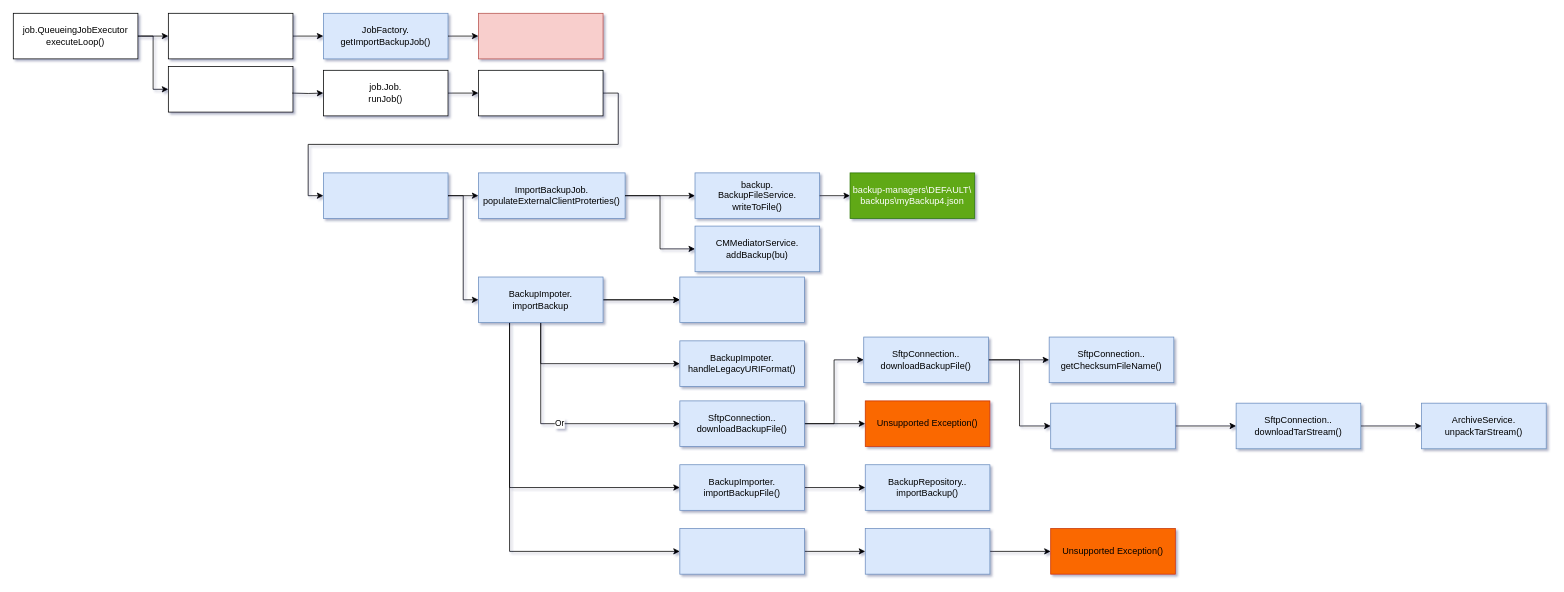
Some shapes in this 1564 by 592 pixel diagram are drawn without their labels. The box of each missing label's shape, as (x1, y1, x2, y2) in pixels:
(abstract) job.Job. triggerJob(): (478, 70, 603, 116)
BackupImporter. importBackupData(): (679, 528, 804, 574)
ExternalConnectionFactory. connect(): (679, 276, 804, 323)
ImportBackupJob. triggerJob(): (323, 172, 448, 218)
job. setBackupImporter(): (478, 13, 603, 59)
job.Job. run(): (168, 66, 293, 112)
job.JobFactory. createJob(): (168, 13, 293, 59)
SftpConnection. importBackupData(): (864, 528, 990, 574)
SftpConnection.. downloadRemotePath(): (1050, 402, 1175, 449)
